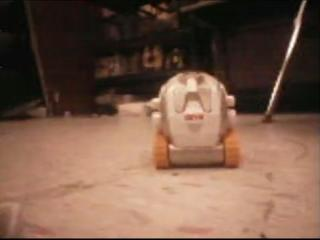cozmo: (144, 70, 242, 169)
